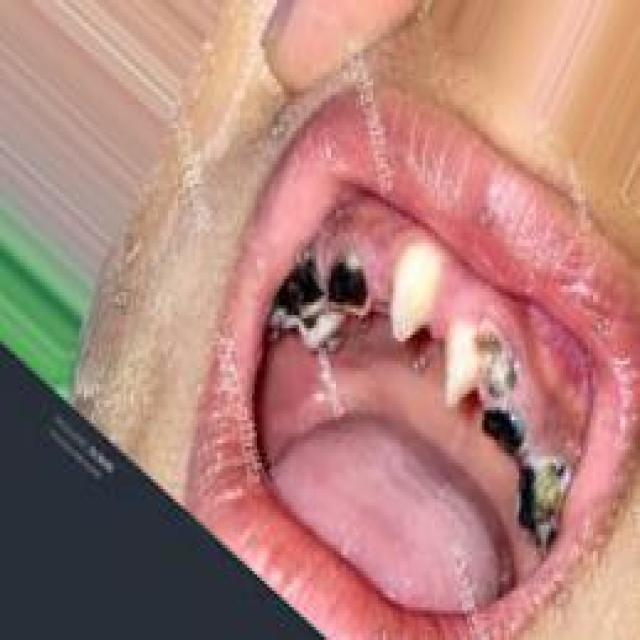caries: (264, 255, 329, 343), (506, 454, 569, 540), (466, 319, 523, 403), (324, 248, 378, 332), (474, 404, 532, 462)
